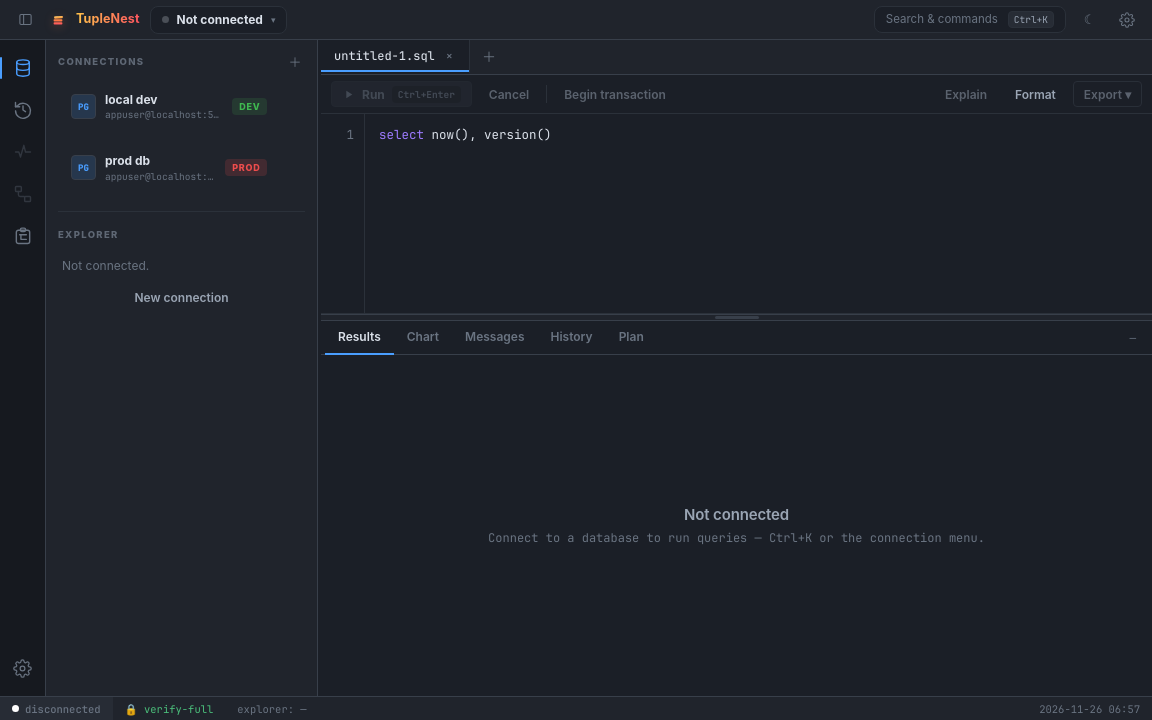
Test: App — saving a profile › says why a save failed rather than looking like it worked
expect the text "local dev" is shown: met, box [105,91,158,108]
What coordinates should you click on to do the following:
click the button with class "conn-open" that starts with "local dev"
I would click on:
 (169, 107)
Its box is [63,84,275,129].
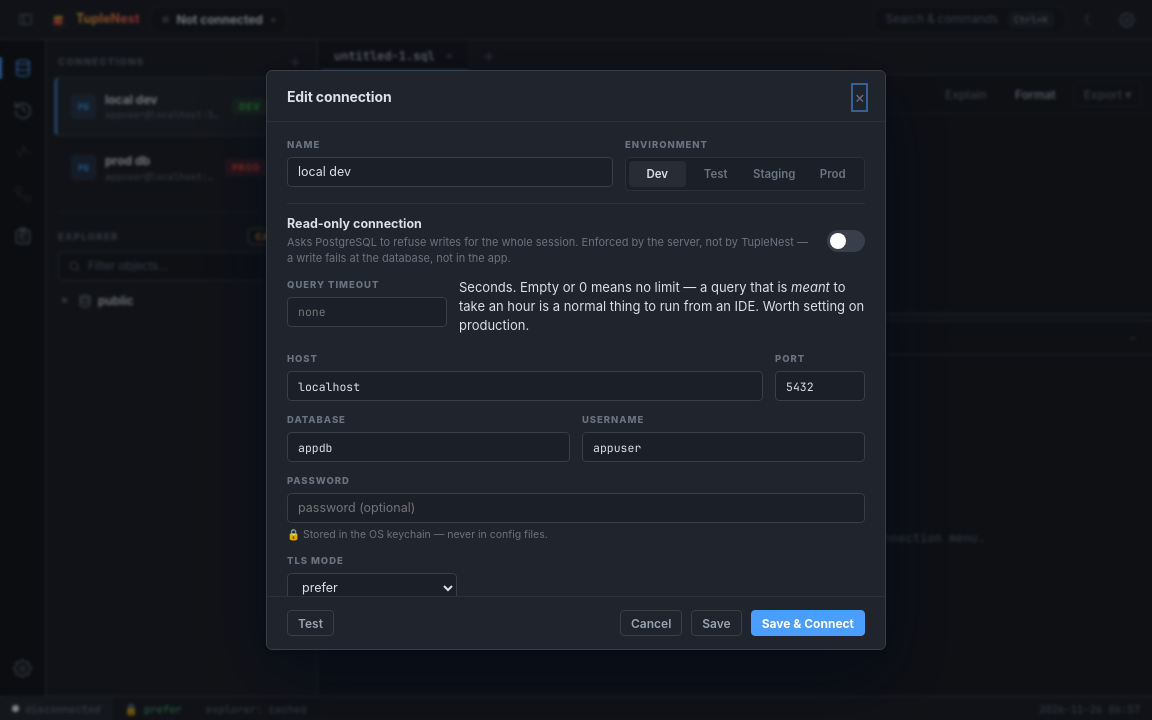
expect the text "Edit connection" is shown: met, box [287,87,392,108]
What coordinates should you click on to do the following:
click the button "Save"
I would click on:
 (716, 623)
Its box is [691,610,742,636].
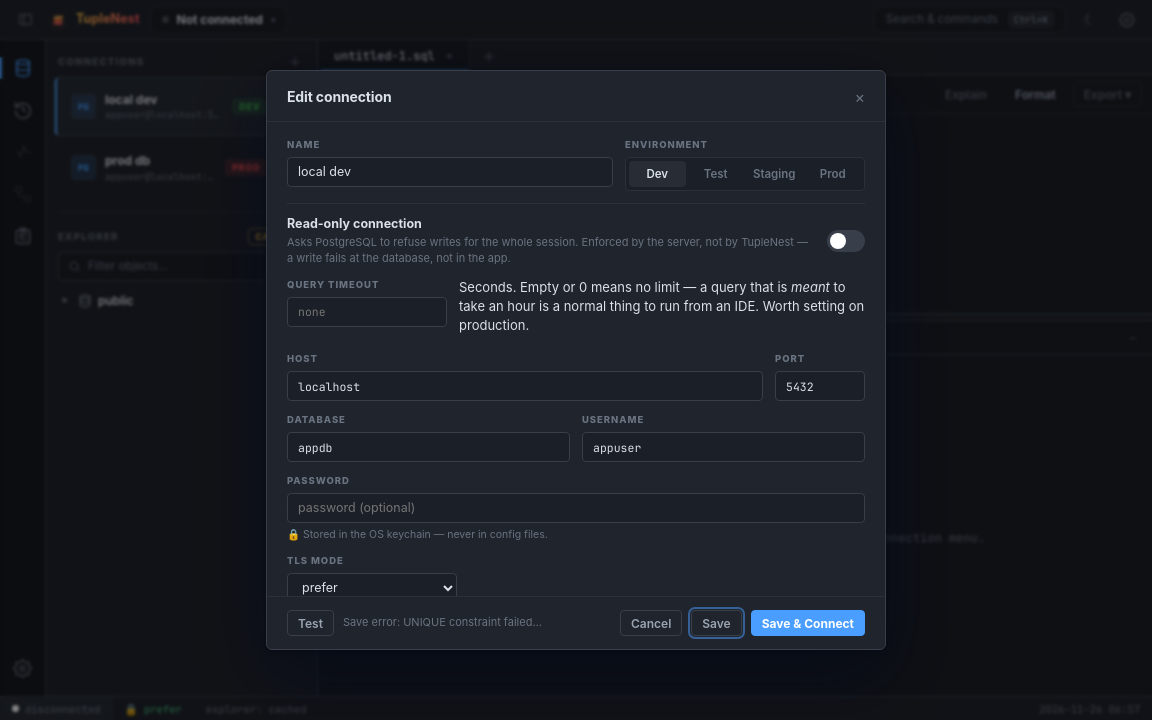
expect the text "Save error: UNIQUE constraint failed: connections.name" is shown: met, box [343,615,543,631]
